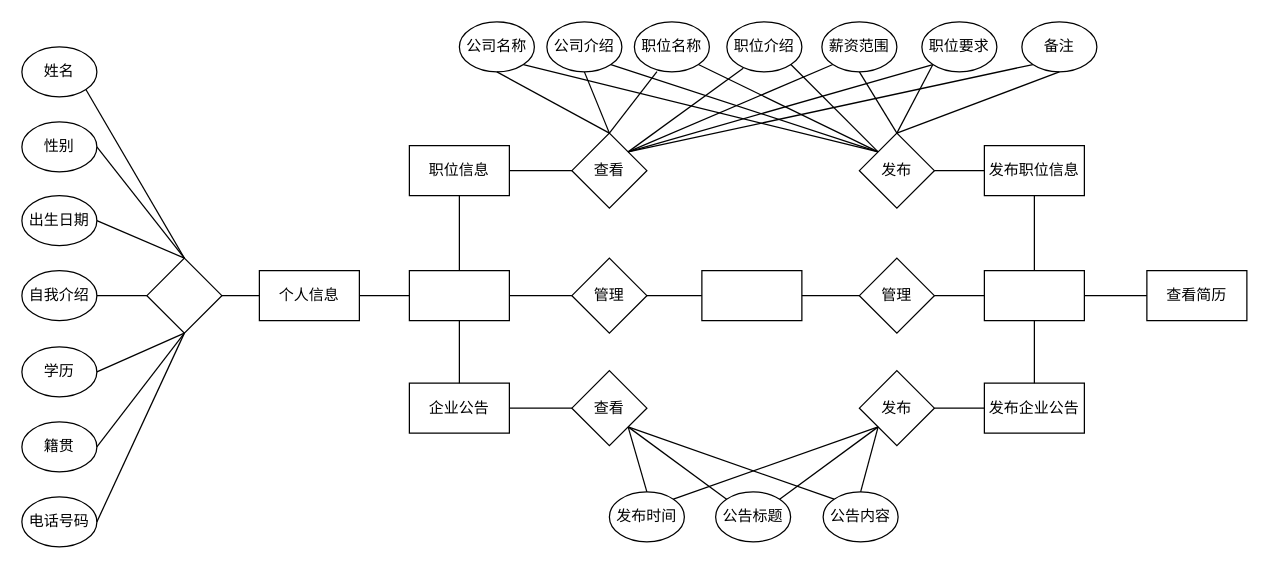
This 1269x569 diagram has some shape labels left out. Each missing label, with the centre of its shape:
"企业招聘者" belongs at [1033,295].
"包括" belongs at [184,295].
"求职者" belongs at [458,295].
"超级管理员" belongs at [751,295].
